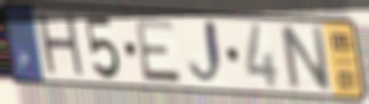4: (243, 21, 283, 92)
5: (82, 15, 122, 81)
E: (132, 17, 183, 85)
H: (34, 10, 89, 82)
J: (186, 17, 228, 90)
N: (276, 24, 334, 94)
